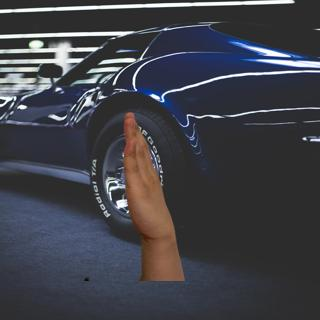RIGHT: (115, 107, 184, 245)
